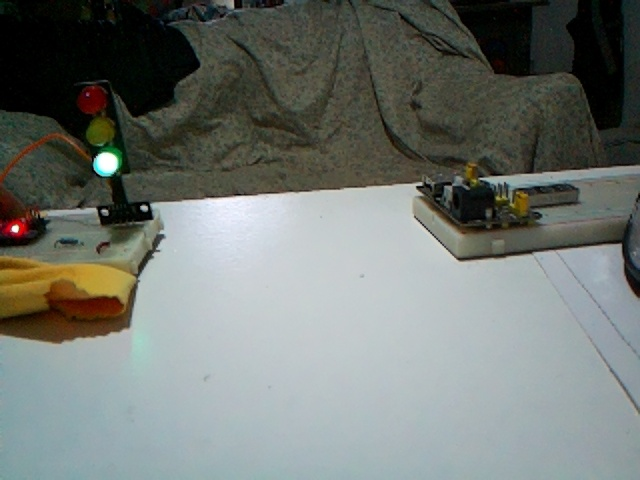traffic_light_green: (76, 82, 123, 177)
